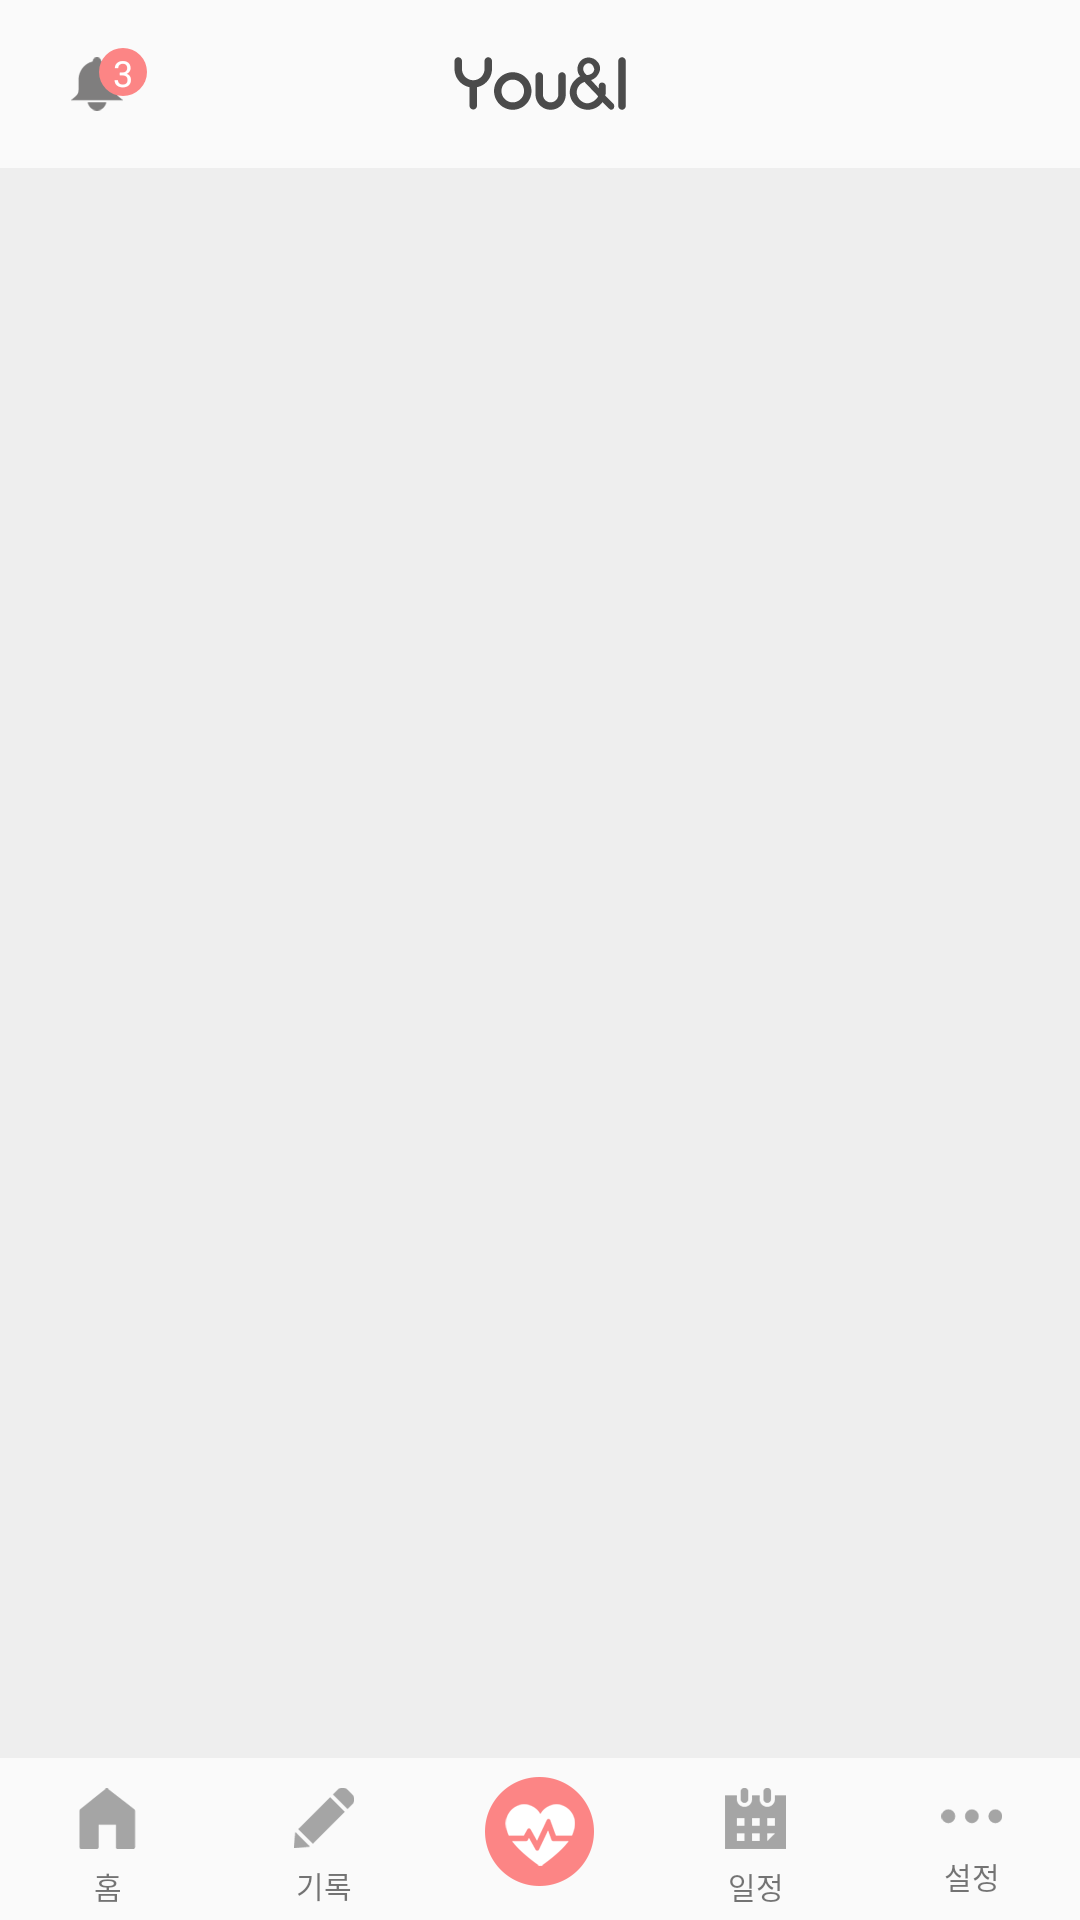

Point at icon controls on the screen. Image size 1080x1920, points as point (x, y).
cal: point (755, 1818)
heart: point (539, 1831)
more: point (971, 1816)
write: point (324, 1818)
